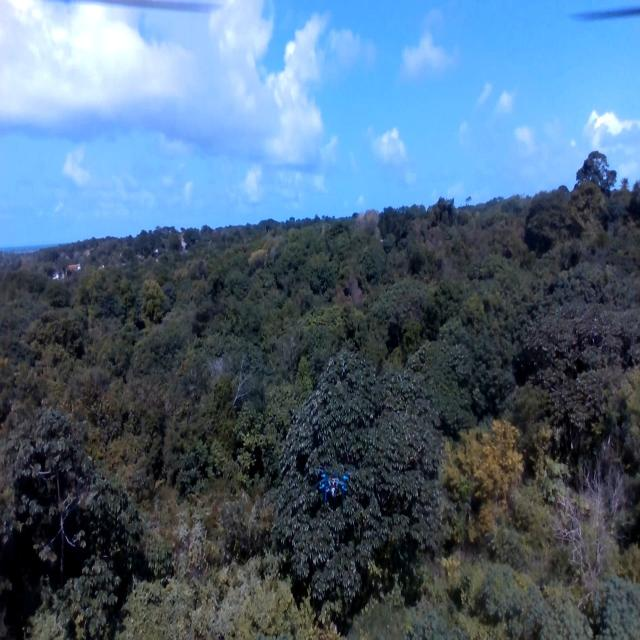-uav-: (312, 456, 355, 516)
